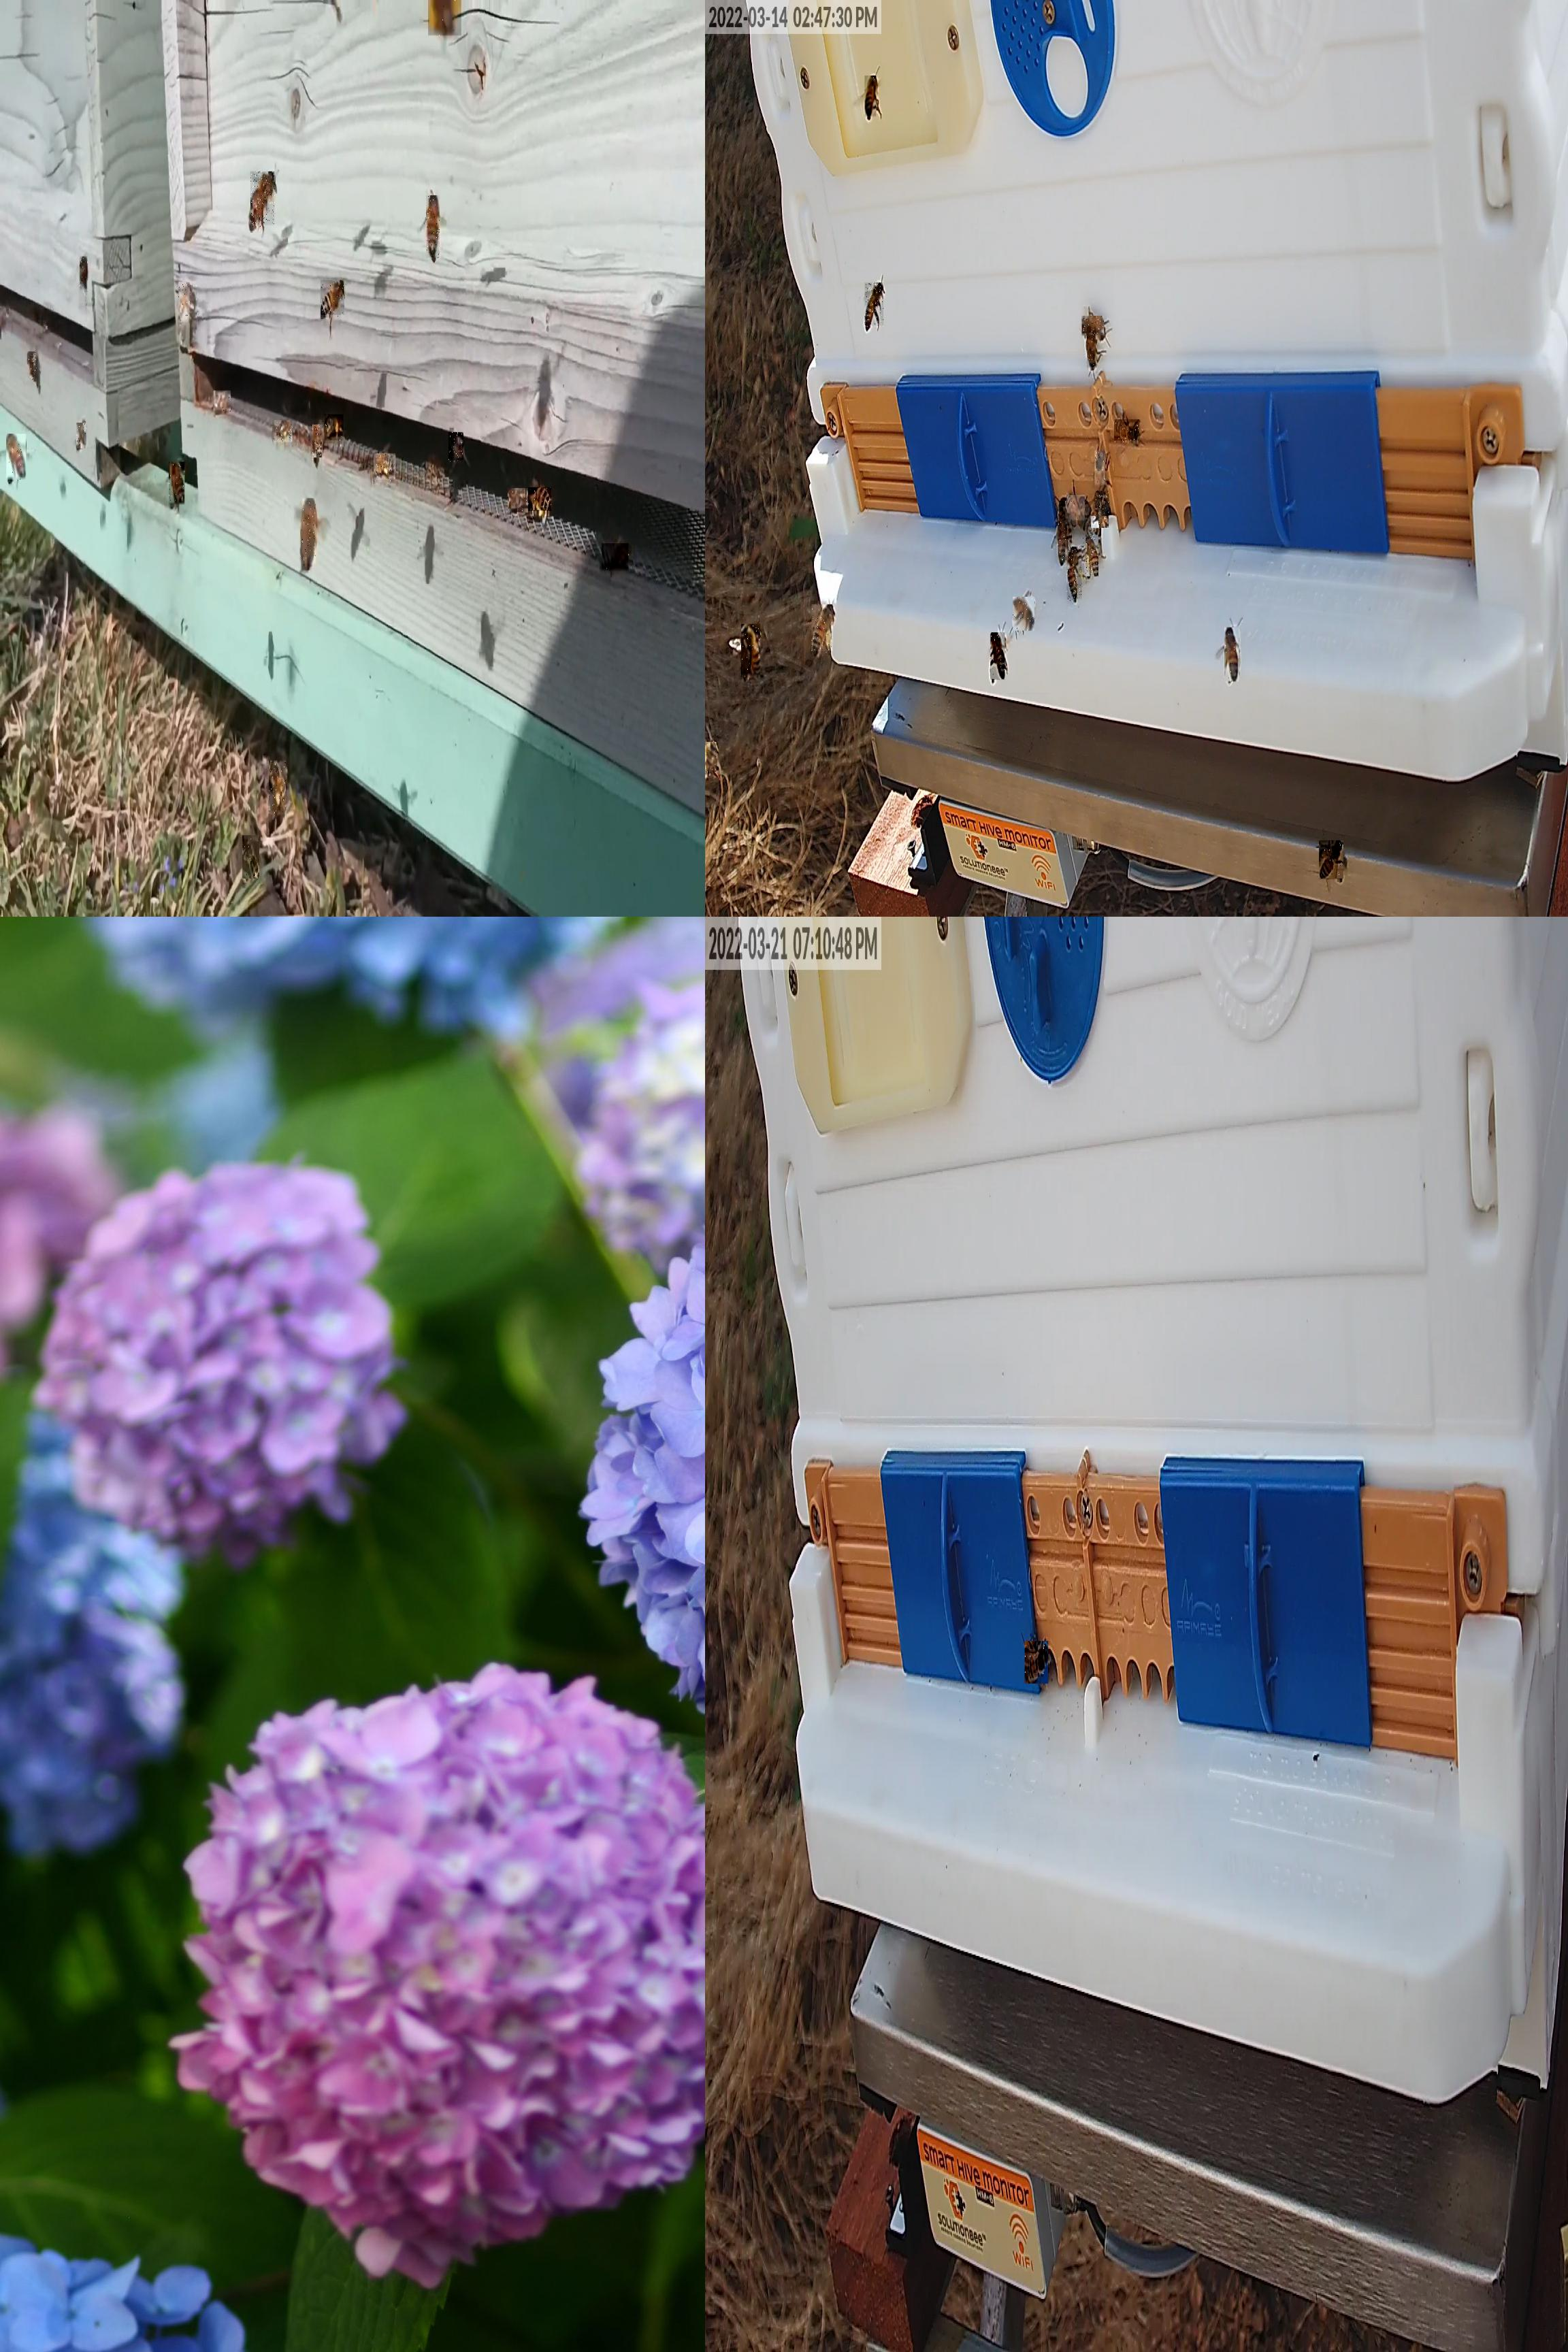bee: (250, 172, 277, 229), (301, 499, 317, 567), (1025, 1641, 1050, 1685), (1319, 840, 1344, 882), (742, 625, 761, 677), (320, 280, 345, 319), (7, 434, 26, 481), (427, 196, 441, 261), (865, 284, 884, 329), (602, 544, 630, 574), (168, 462, 186, 508), (1013, 597, 1036, 632), (991, 633, 1006, 682), (243, 835, 259, 878), (508, 488, 532, 513), (1115, 420, 1139, 445), (178, 282, 191, 326), (865, 75, 877, 119), (1082, 317, 1104, 340), (448, 432, 464, 464), (1067, 495, 1085, 523), (275, 422, 292, 446), (1061, 501, 1071, 539), (213, 390, 231, 413), (313, 425, 324, 462), (1095, 451, 1106, 488), (705, 742, 718, 774), (1059, 520, 1067, 564), (1087, 329, 1095, 371), (1095, 492, 1110, 516), (79, 257, 88, 292), (77, 424, 88, 450), (1092, 516, 1110, 532), (28, 352, 37, 382)
pollenbee: (429, 0, 462, 37), (812, 606, 833, 655), (270, 761, 287, 814), (1067, 548, 1082, 602), (1225, 628, 1239, 682), (375, 453, 396, 483), (529, 488, 551, 514), (1087, 535, 1101, 578), (326, 415, 343, 443)
